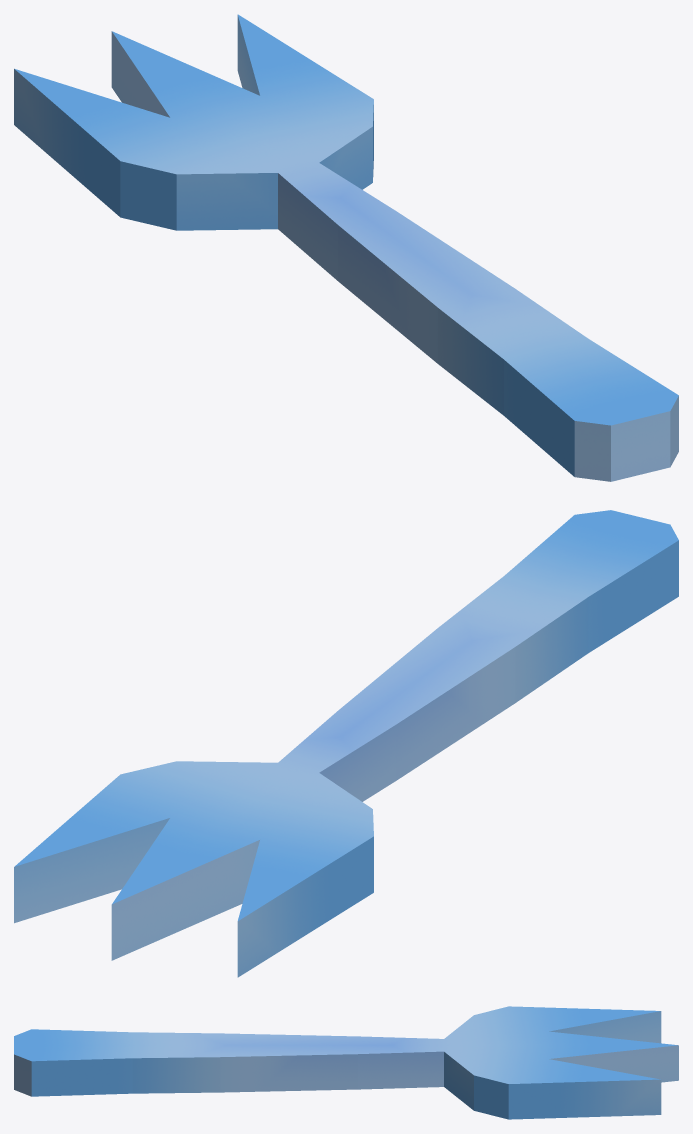
File: goodGiantFORK.glb
3 renders of one model, top to bottom at view 1: azimuth 30°, elevation 25°; view 2: azimuth 150°, elevation 25°; view 3: azimuth 270°, elevation 25°, orthographic. The views are drawn at different scales.
Visible parts, largest first — view 1: Plane; view 2: Plane; view 3: Plane.
Boxes of the visible parts, x1,y1,x2,y2 form: Plane: (14,14,678,481); Plane: (14,510,678,977); Plane: (14,1006,678,1119).
Bounding box in the file's own units: 8.7 × 1.85 × 31.43.
1 material, 1 textured.
